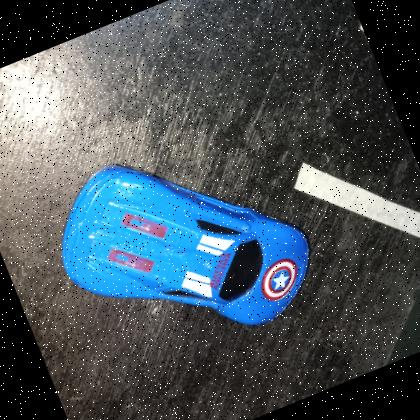Car: (61, 163, 310, 325)
